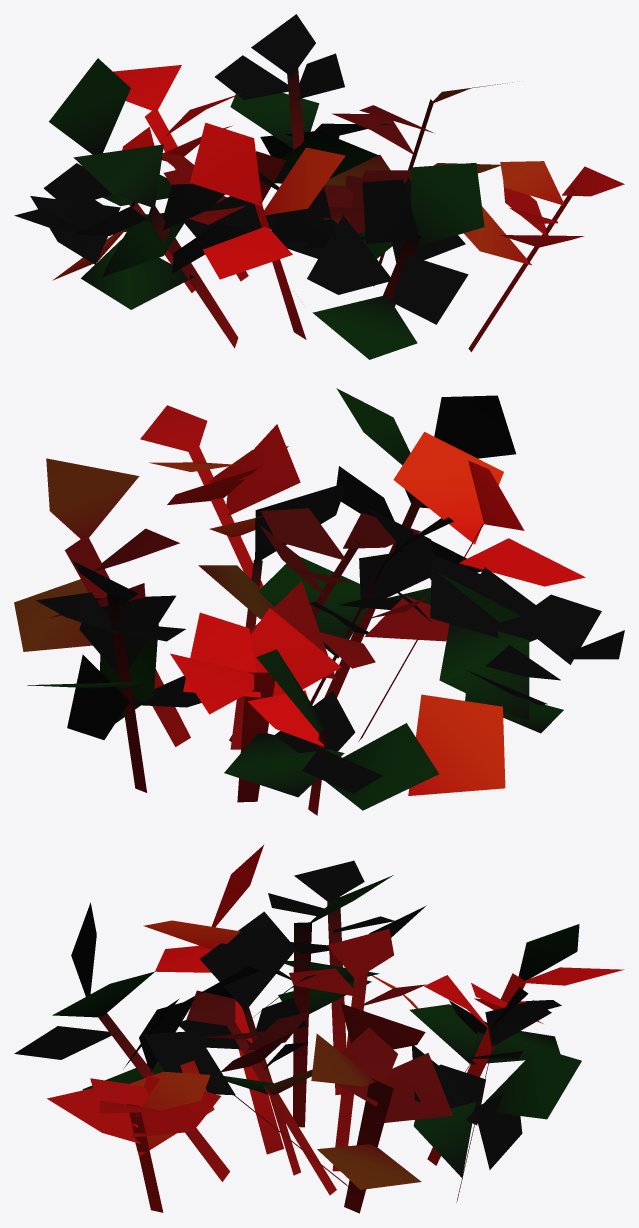
Rendered from Broadleaf Shrub Model simple.fbx.
The picture shows the model from 3 angles, top to bottom: view 1: azimuth 30°, elevation 25°; view 2: azimuth 150°, elevation 25°; view 3: azimuth 270°, elevation 25°; orthographic projection. The views are drawn at different scales.
Visible parts, largest first — view 1: Broadleaf_Shrub_Simple; view 2: Broadleaf_Shrub_Simple; view 3: Broadleaf_Shrub_Simple.
Boxes of the visible parts, <box> form: Broadleaf_Shrub_Simple: <box>14,14,624,359</box>; Broadleaf_Shrub_Simple: <box>14,388,624,815</box>; Broadleaf_Shrub_Simple: <box>14,845,624,1213</box>.
Size of the model in its own units: 61.64 by 62.69 by 29.49.
